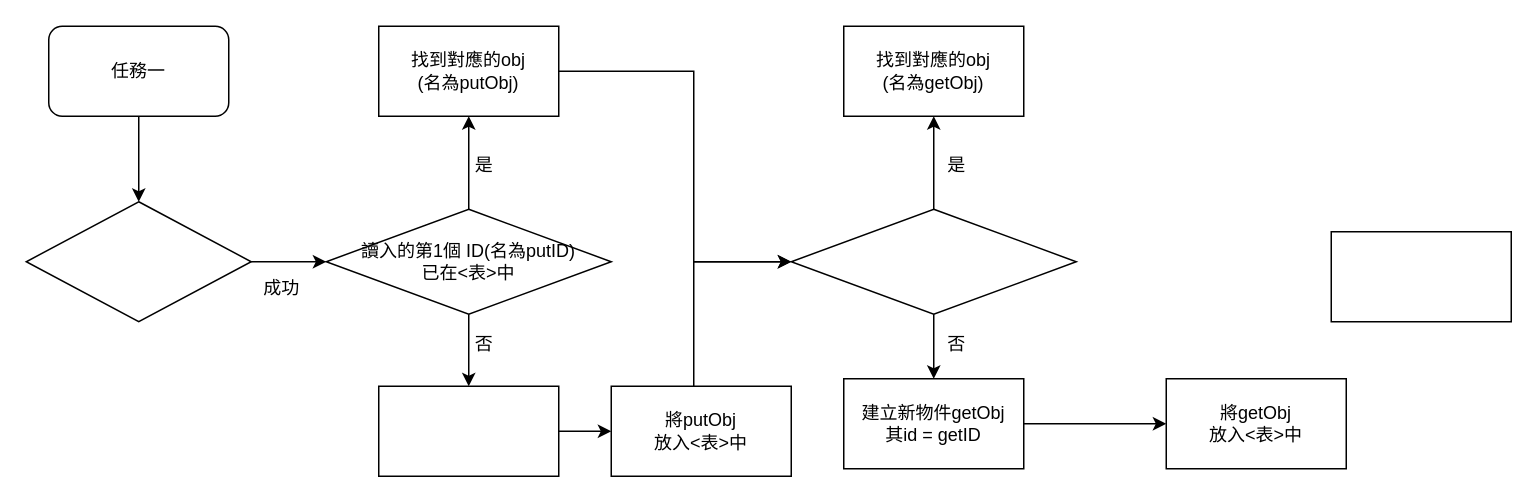
Image size: 1538x503. Some labels were removed from this diagram. The shapes that lost their labels are listed below. From the top down, each one's centre as x and y in pixels, then its label:
At point (138, 261): "讀入1筆資料".
At point (933, 261): "讀入的第2個 ID(名為getID) 已在<表>中".
At point (468, 430): "建立新物件putObj 其id = putID".
